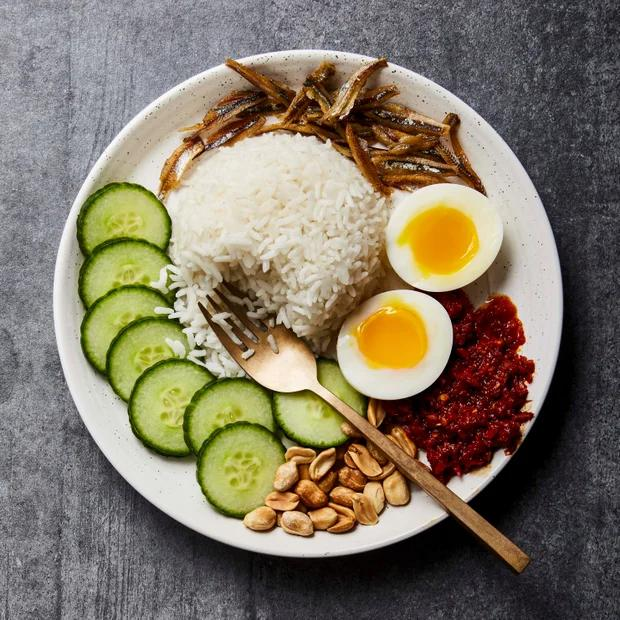Anchovies: (171, 58, 486, 199)
Boiled-Egg: (336, 183, 504, 401)
Cucumber: (77, 183, 349, 513)
Peanuts: (245, 438, 412, 537)
Rice: (164, 135, 386, 379)
Sambal: (368, 296, 535, 485)
